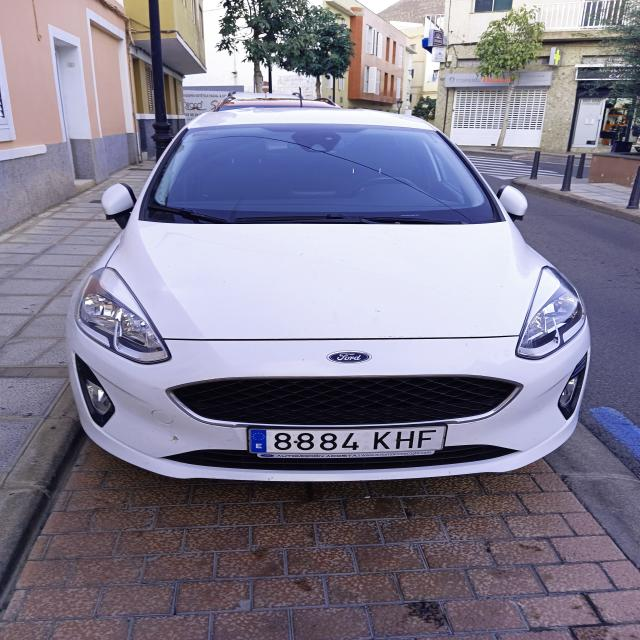football: (248, 426, 445, 454)
